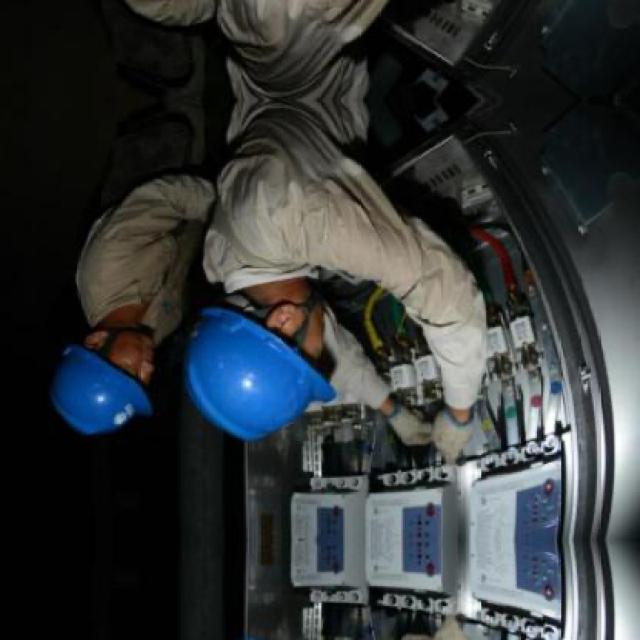con casco: (176, 230, 382, 429), (50, 289, 158, 437)
